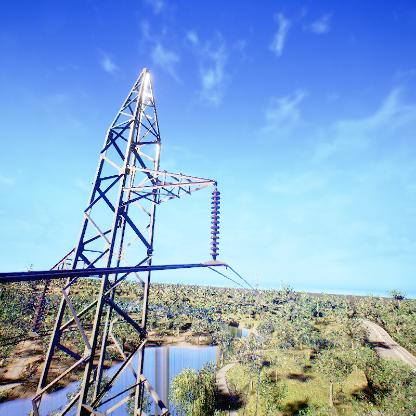insulator: (209, 187, 222, 261)
